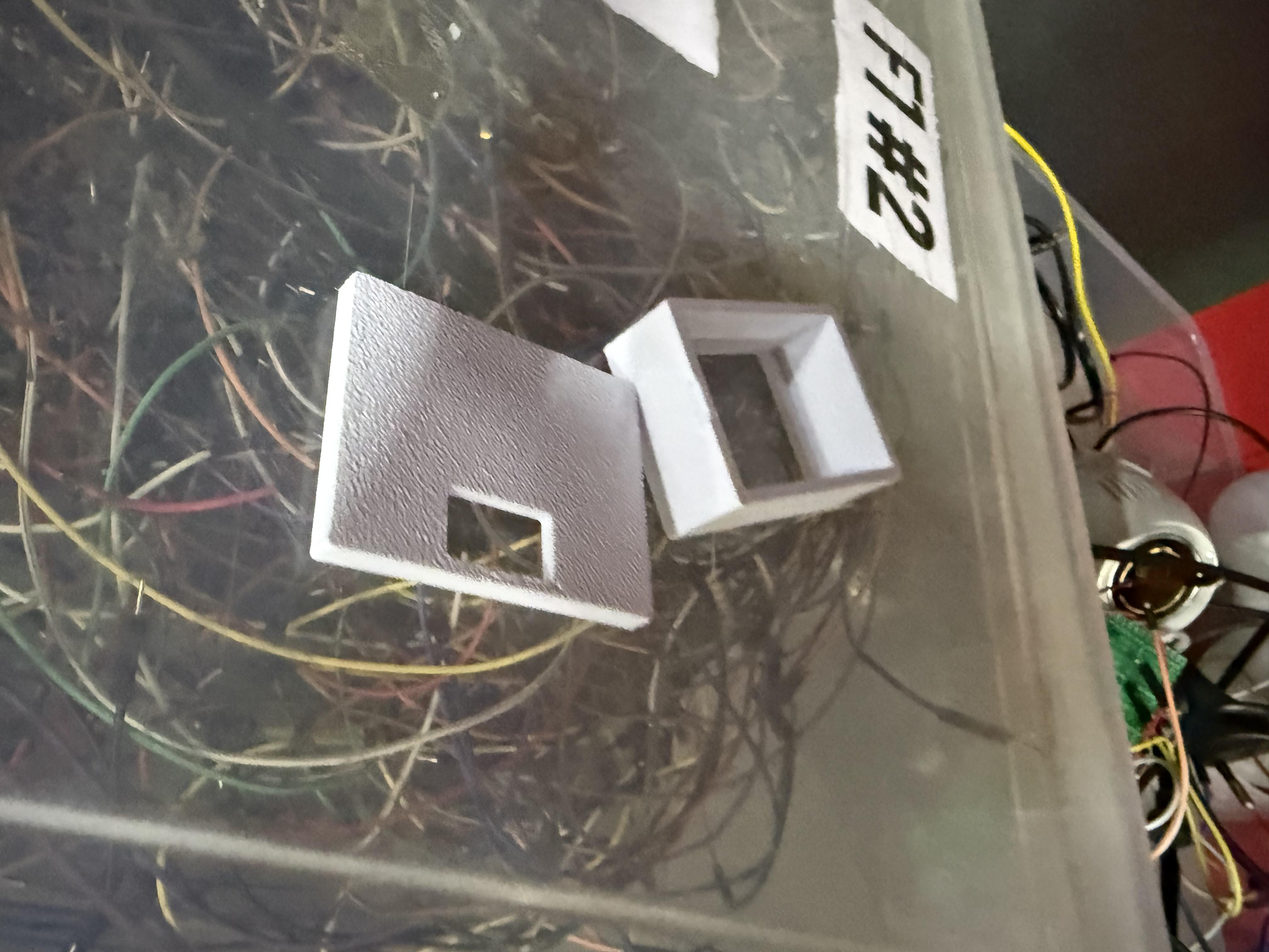enclosure: (297, 264, 671, 636), (603, 297, 902, 540)
